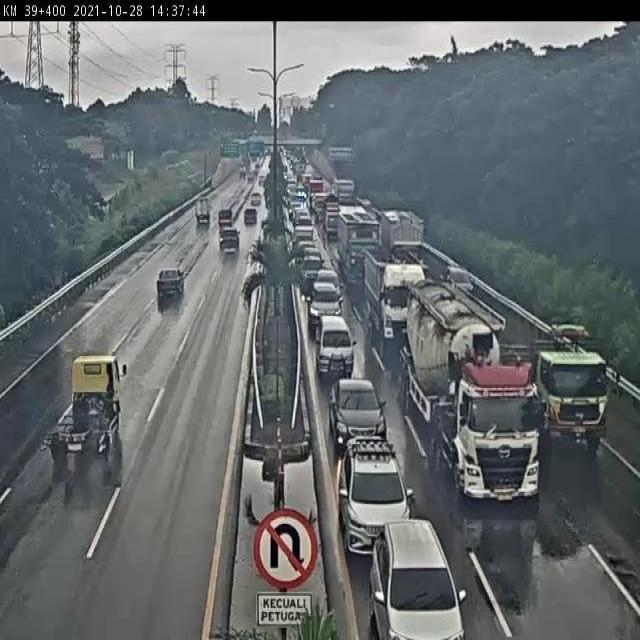big truck: (405, 279, 536, 496), (510, 324, 608, 449), (366, 245, 430, 340)
car: (368, 523, 467, 637), (337, 435, 411, 549), (329, 376, 388, 451), (314, 314, 357, 378), (307, 281, 343, 323), (154, 267, 185, 301), (315, 265, 344, 300), (302, 253, 326, 286), (217, 226, 241, 253)
small truck: (44, 353, 124, 459)
